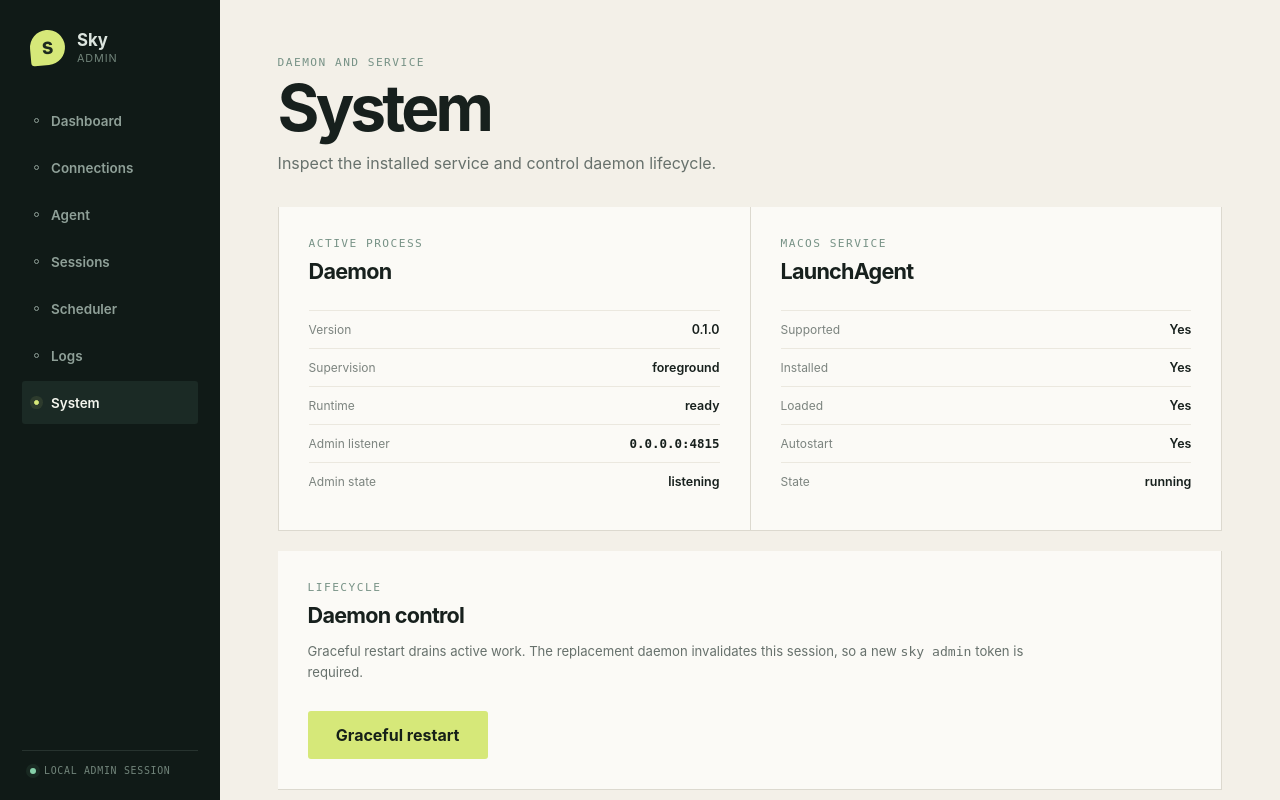
shows the daemon control error when graceful restart is unavailable
Click the button "Graceful restart" at coordinates (398, 735), box [308,711,488,759]
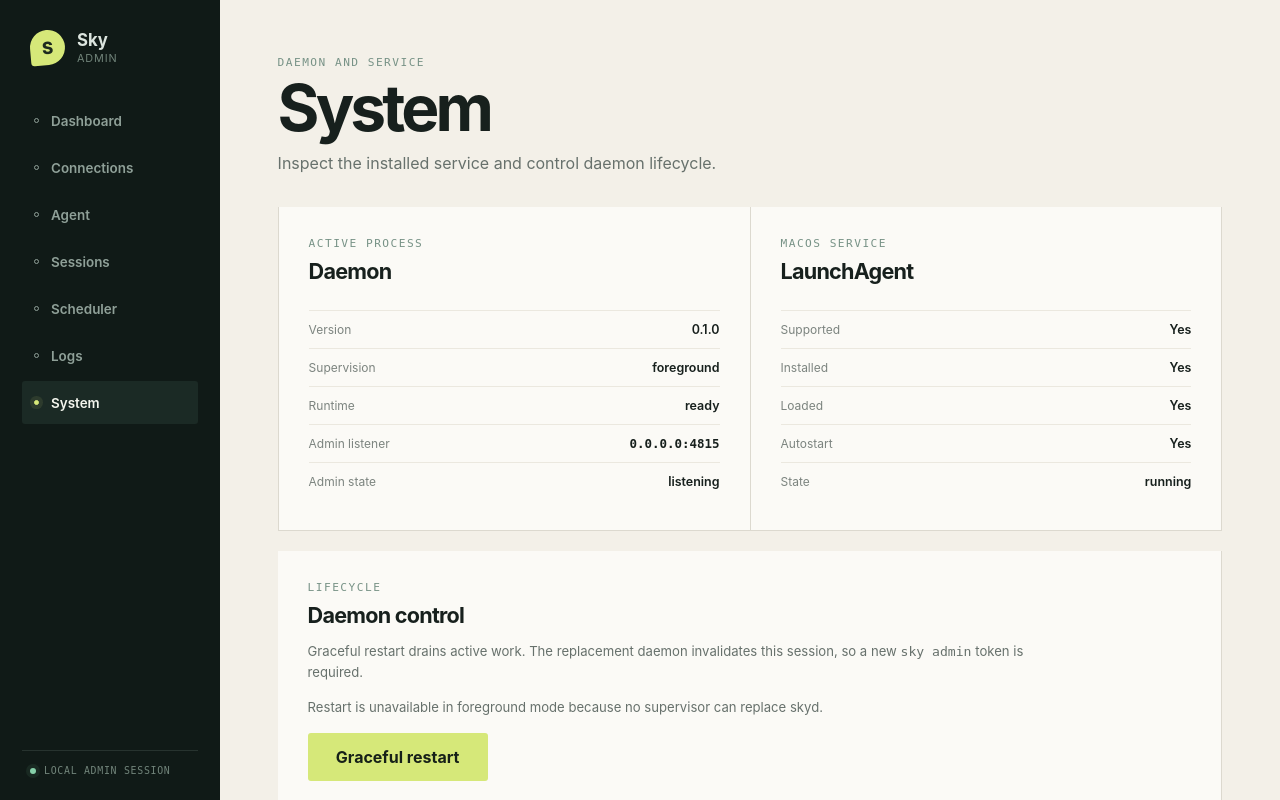
Check: the message shows "Restart is unavailable in foreground mode because no supervisor can replace skyd.", box [308,699,823,715]
